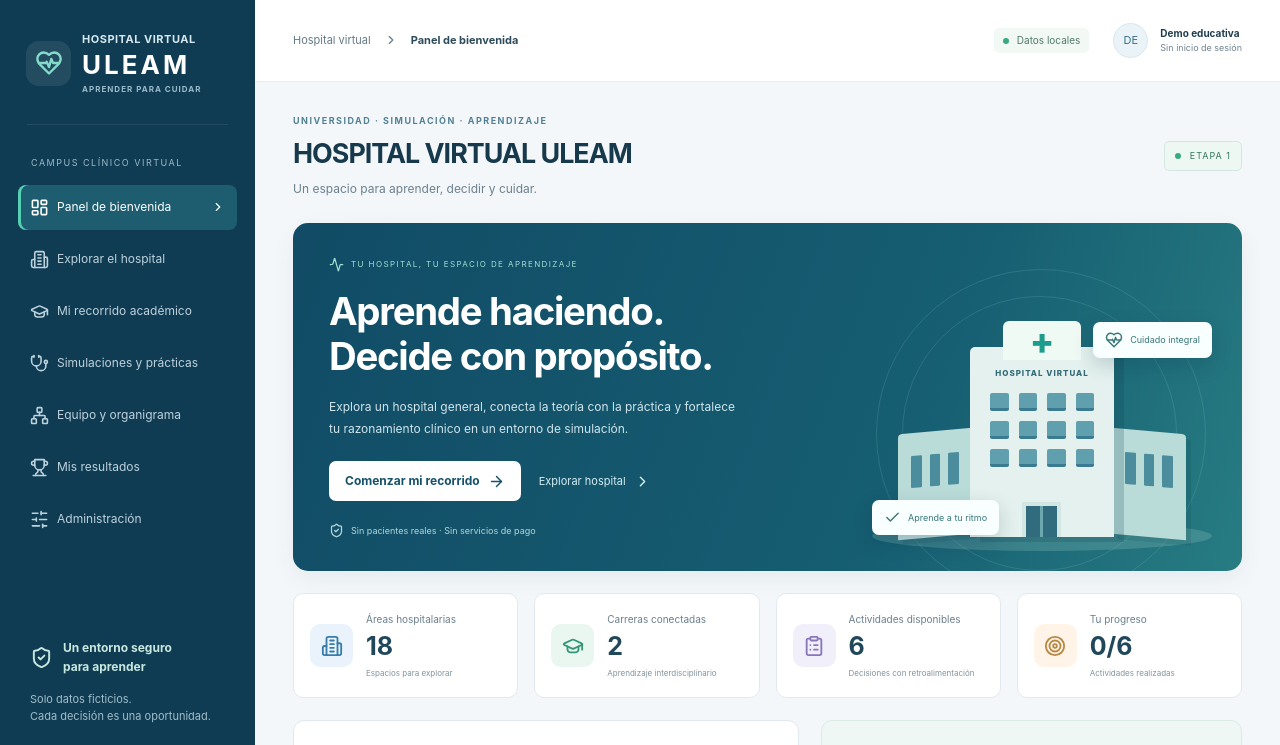
Scenario: muestra un organigrama y bloquea borrar áreas con referencias
Click the button "Equipo y organigrama".
click(128, 415)  # box x1=18 y1=393 x2=237 y2=438
(page scrolled)
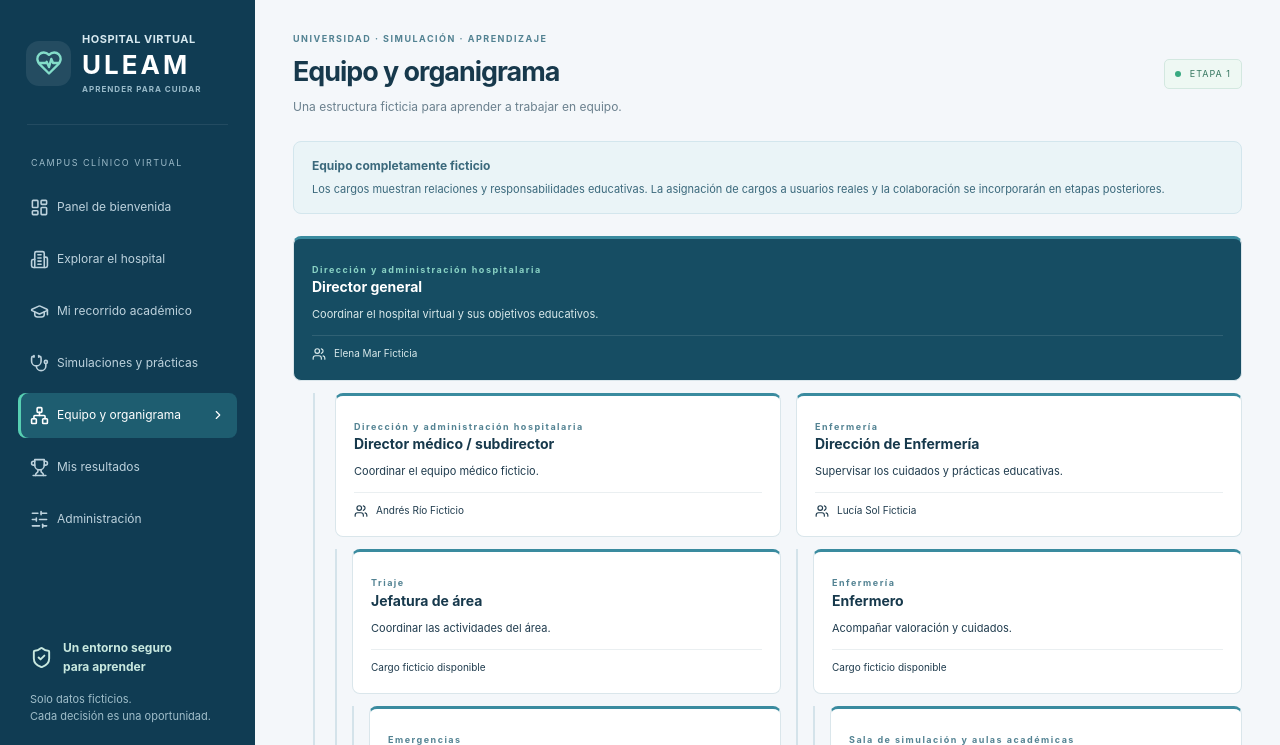
Now the heading "Director general" is shown, box x1=312 y1=278 x2=422 y2=296
Click the button "Administración".
click(128, 519)  # box x1=18 y1=497 x2=237 y2=542
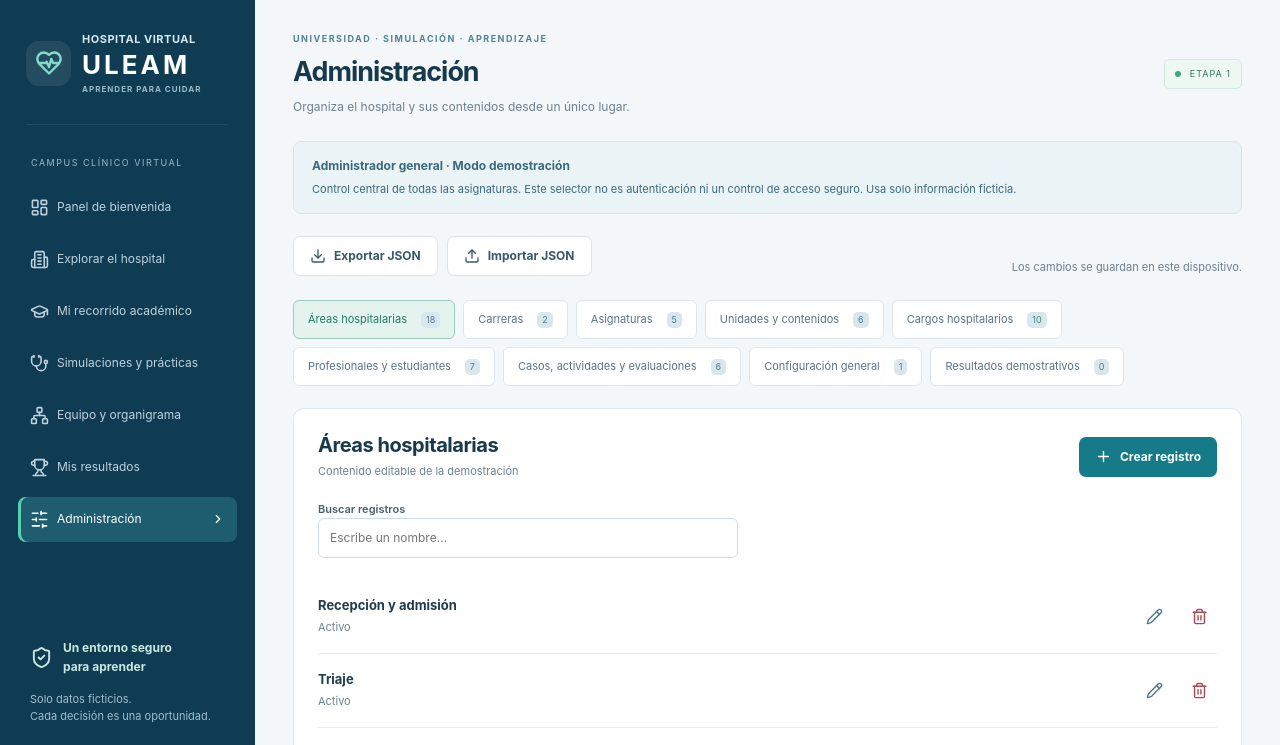
Click the button named "Eliminar Triaje".
click(1199, 690)  # box x1=1181 y1=672 x2=1217 y2=708
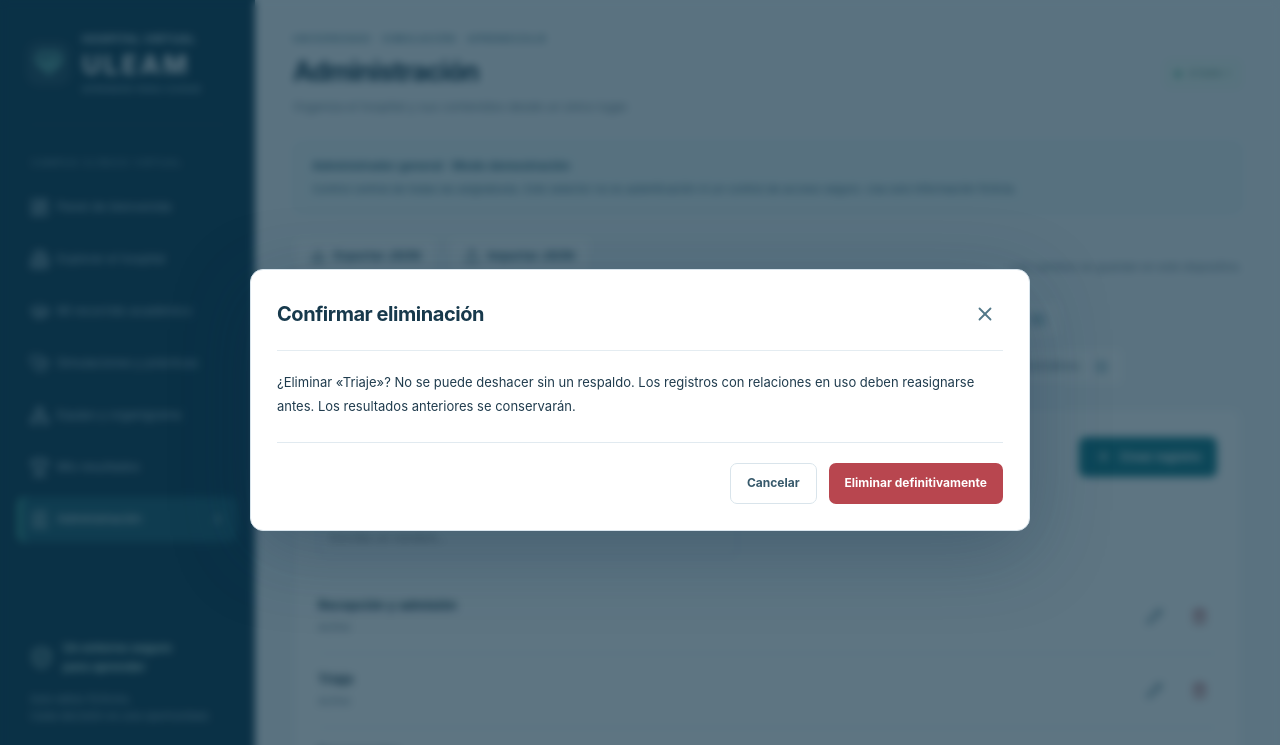
Click the button "Eliminar definitivamente".
click(916, 483)  # box x1=829 y1=463 x2=1003 y2=504
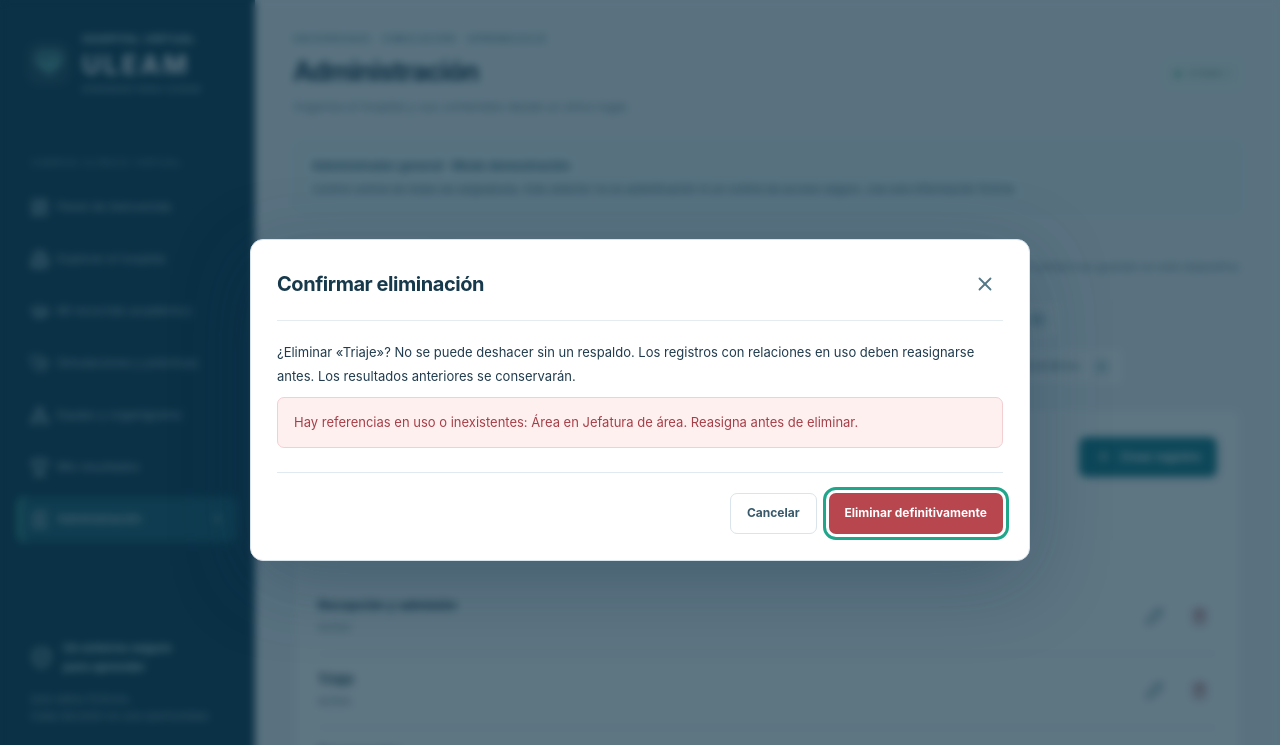
Now the message shows "referencias", box x1=294 y1=414 x2=858 y2=430
